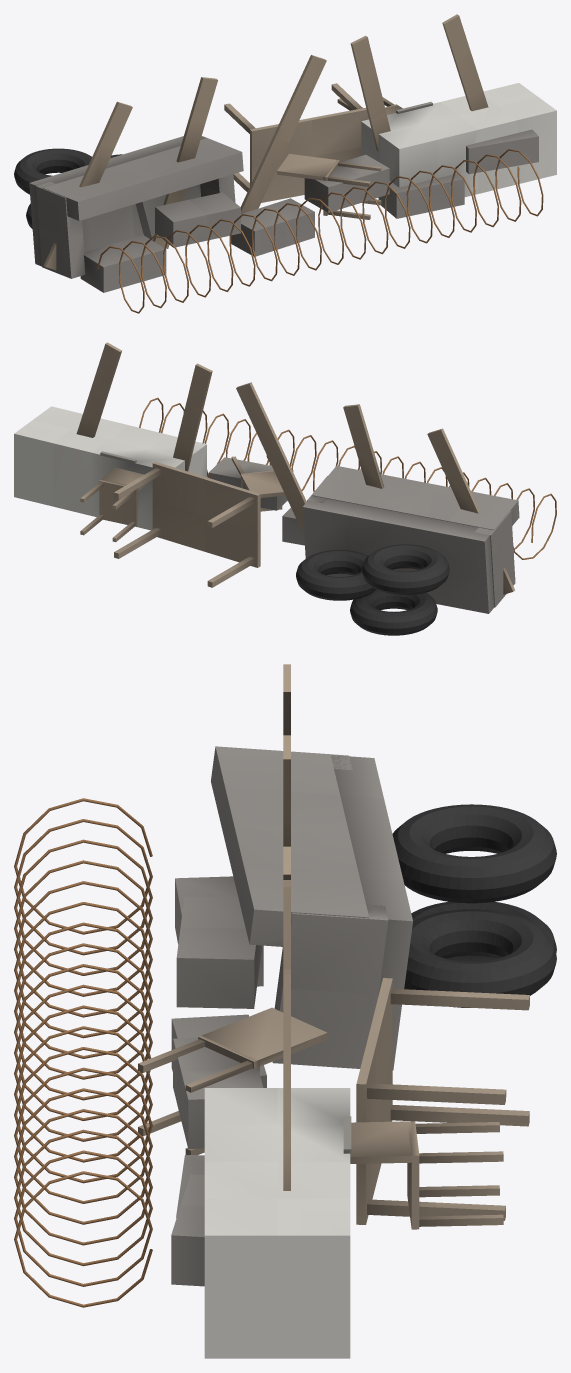
File: barricada_sobr.glb
3 renders of one model, top to bottom at view 1: azimuth 30°, elevation 25°; view 2: azimuth 150°, elevation 25°; view 3: azimuth 270°, elevation 25°, orthographic. The views are drawn at different scales.
Parts seen in each view (by area): view 1: sofa, geladeira, arame, mesa, saco_1, saco_0, saco_2, tabua_2, saco_3, saco_4, saco_5, mesa_cadeira0 (+5 smaller); view 2: sofa, geladeira, mesa, Torus.002, Torus, Torus.001, tabua_2, arame, mesa_cadeira1, tabua_3, tabua_4, tabua_0 (+4 smaller); view 3: sofa, geladeira, arame, Torus.002, mesa, Torus.001, saco_1, mesa_cadeira1, mesa_cadeira0, saco_3, saco_5, tabua_4 (+4 smaller).
Boxes of the visible parts, <box> form: sofa: <box>29,136,243,278</box>; geladeira: <box>361,83,556,197</box>; arame: <box>97,149,543,313</box>; mesa: <box>224,83,368,202</box>; saco_1: <box>155,192,240,247</box>; saco_0: <box>80,235,166,292</box>; saco_2: <box>231,198,314,256</box>; tabua_2: <box>241,55,326,213</box>; saco_3: <box>304,154,389,212</box>; saco_4: <box>378,173,464,218</box>; saco_5: <box>466,129,538,174</box>; mesa_cadeira0: <box>277,154,381,219</box>; sofa: <box>302,465,519,613</box>; geladeira: <box>14,406,206,530</box>; mesa: <box>114,461,260,587</box>; Torus.002: <box>362,544,449,595</box>; Torus: <box>350,589,437,635</box>; Torus.001: <box>296,550,376,600</box>; tabua_2: <box>236,382,306,535</box>; arame: <box>139,397,556,559</box>; mesa_cadeira1: <box>80,467,149,541</box>; tabua_3: <box>173,363,212,471</box>; tabua_4: <box>76,342,121,437</box>; tabua_0: <box>427,428,515,594</box>; sofa: <box>211,746,412,1070</box>; geladeira: <box>204,1088,351,1358</box>; arame: <box>14,798,152,1307</box>; Torus.002: <box>392,804,556,903</box>; mesa: <box>356,978,529,1224</box>; Torus.001: <box>404,909,556,1007</box>; saco_1: <box>176,896,261,1008</box>; mesa_cadeira1: <box>350,1121,503,1229</box>; mesa_cadeira0: <box>138,1007,327,1155</box>; saco_3: <box>173,1037,263,1148</box>; saco_5: <box>171,1174,204,1286</box>; tabua_4: <box>283,969,290,1190</box>.
Size of what is drawn, in the model's own units: 5.6 by 1.8 by 2.8.
